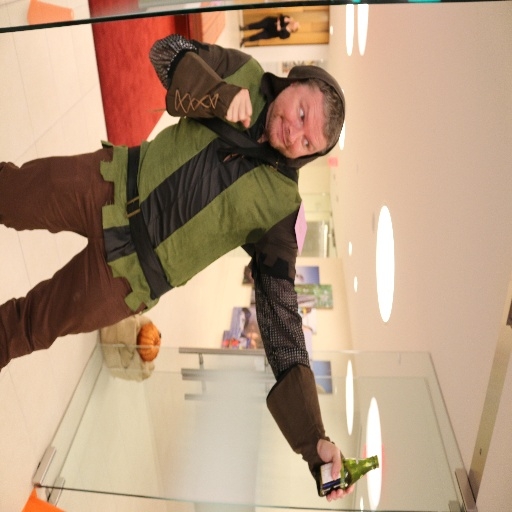hand: (313, 444, 360, 501), (224, 86, 252, 130)
